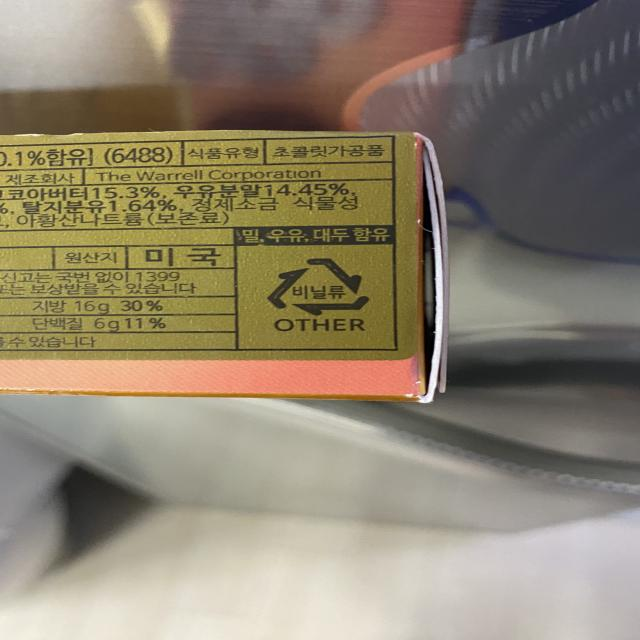Vinyl: (267, 255, 371, 318)
